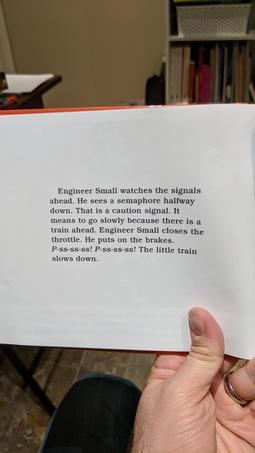text block: (38, 177, 218, 273)
